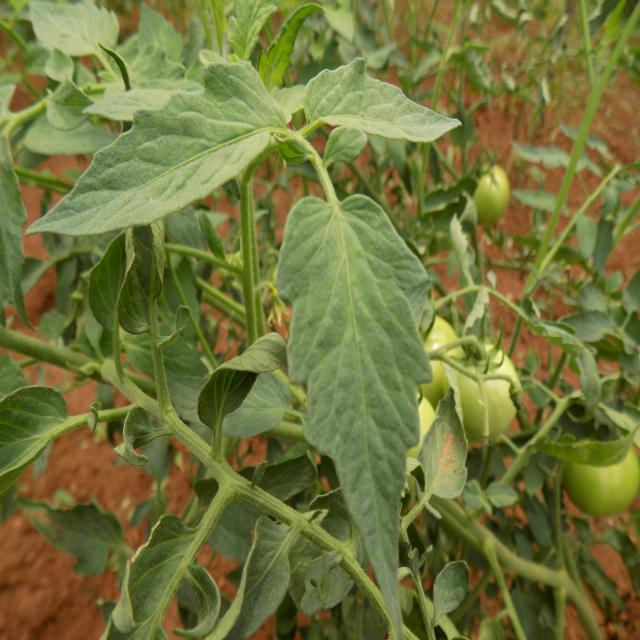tomato_healthy: (274, 197, 434, 640), (27, 48, 287, 238), (297, 53, 469, 144)
